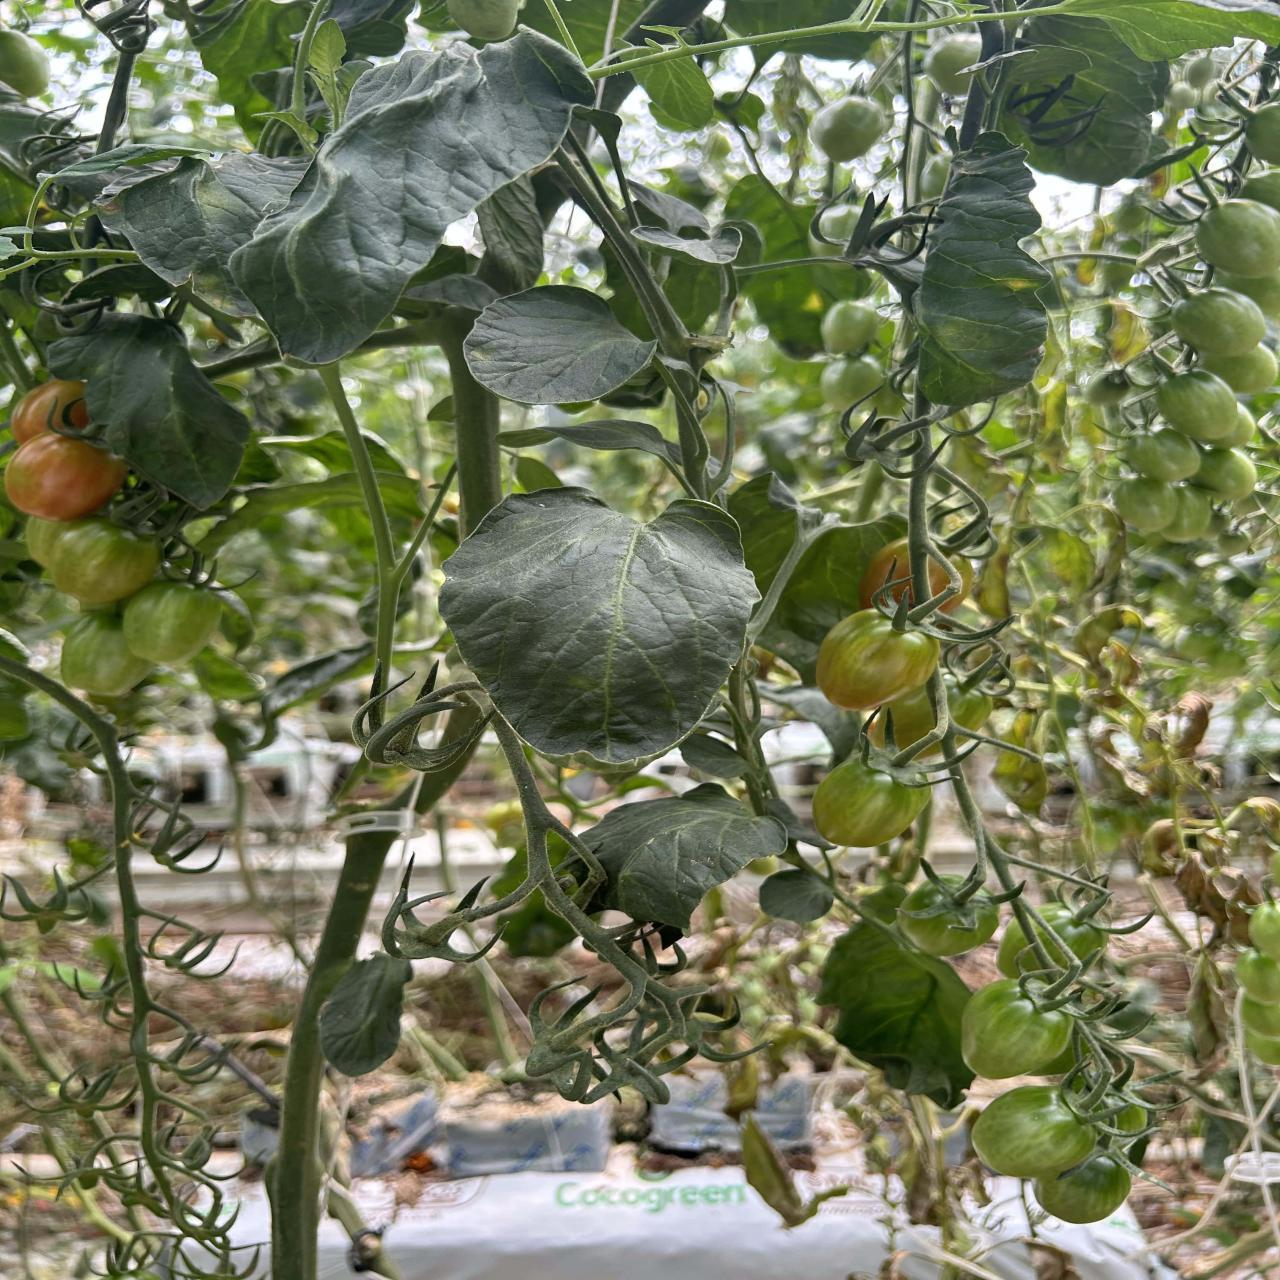Hoja: (95, 30, 587, 363), (440, 486, 761, 762), (989, 0, 1280, 186), (49, 313, 250, 509), (913, 132, 1050, 406), (579, 784, 787, 926), (464, 285, 656, 404), (320, 954, 413, 1076)
Pedunculo: (265, 831, 397, 1280), (559, 134, 690, 360), (431, 311, 502, 538), (892, 442, 961, 631), (655, 360, 712, 499)
Tomate: (4, 380, 127, 522), (817, 608, 939, 710), (26, 517, 159, 608), (972, 1087, 1096, 1177), (961, 980, 1074, 1078), (812, 756, 931, 847), (60, 604, 152, 695), (123, 580, 222, 665), (1035, 1152, 1131, 1224), (1194, 199, 1280, 278), (1172, 287, 1265, 356), (1155, 369, 1238, 443), (1122, 428, 1201, 482), (1114, 478, 1177, 532)
